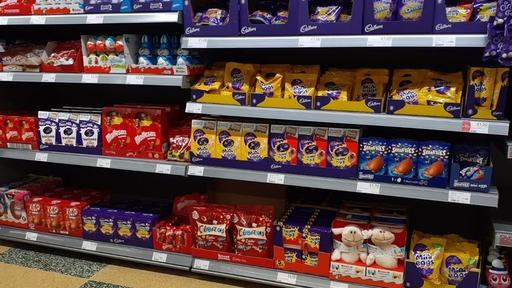maltesers: (102, 109, 134, 158), (132, 109, 163, 159)
